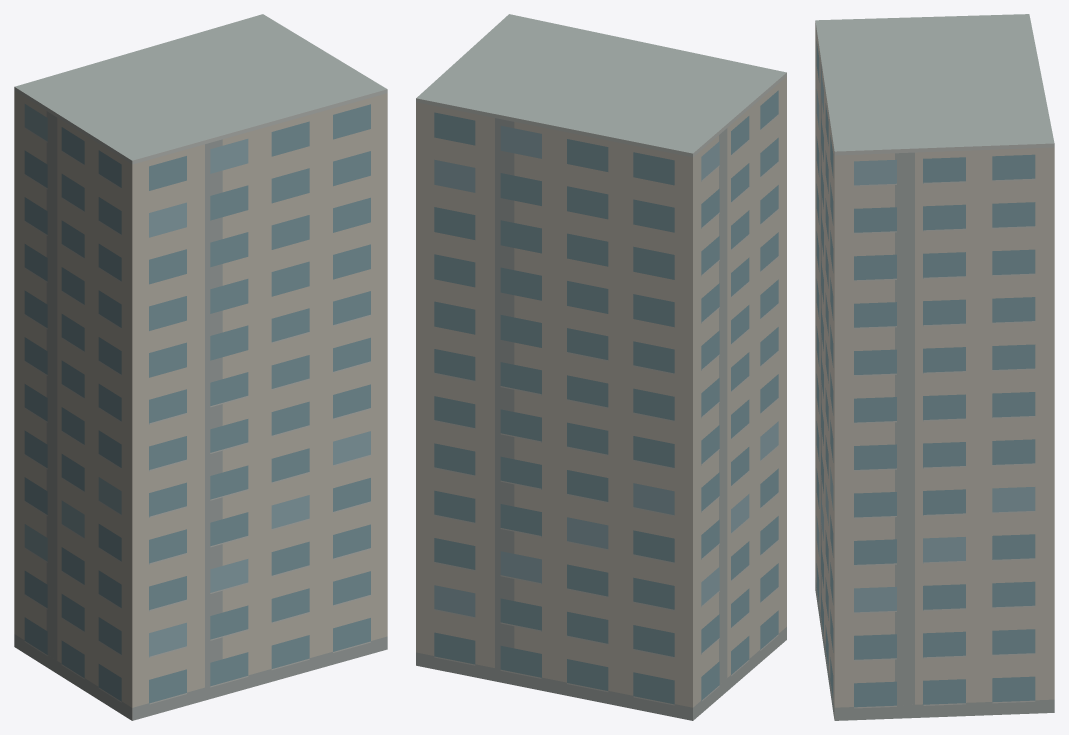
File: residential-33a50c3a-a846-4f76-b79d-dcf6575cc442.glb
3 views of the same model, side by side, from view 1: azimuth 30°, elevation 25°; view 2: azimuth 150°, elevation 25°; view 3: azimuth 270°, elevation 25° (orthographic).
Visible parts, largest first — view 1: residential-33a50c3a-a846-4f76-b79d-dcf6575cc442.tmp; view 2: residential-33a50c3a-a846-4f76-b79d-dcf6575cc442.tmp; view 3: residential-33a50c3a-a846-4f76-b79d-dcf6575cc442.tmp.
Boxes of the visible parts, left/top/right/bottom form: residential-33a50c3a-a846-4f76-b79d-dcf6575cc442.tmp: left=14, top=14, right=387, bottom=720; residential-33a50c3a-a846-4f76-b79d-dcf6575cc442.tmp: left=416, top=14, right=786, bottom=720; residential-33a50c3a-a846-4f76-b79d-dcf6575cc442.tmp: left=815, top=14, right=1054, bottom=720.
Size of the model in its own units: 18.14 by 35 by 13.34.
